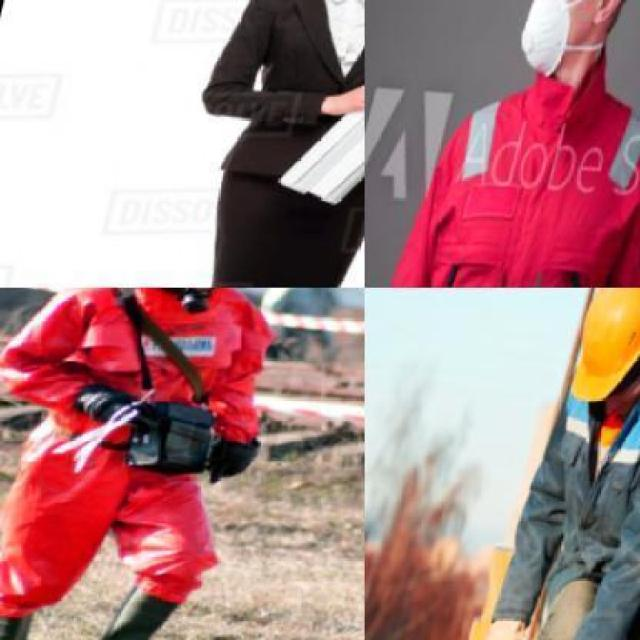Vest: (0, 287, 297, 638), (364, 39, 638, 286), (508, 338, 638, 634)
